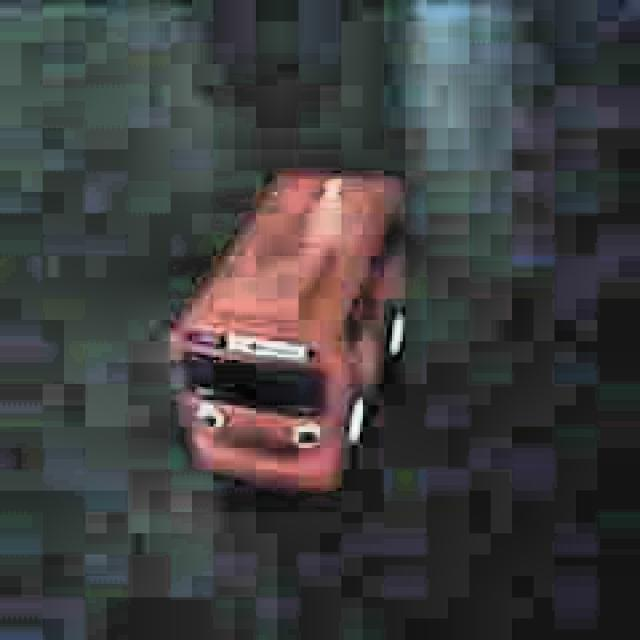bus: (174, 165, 411, 500)
